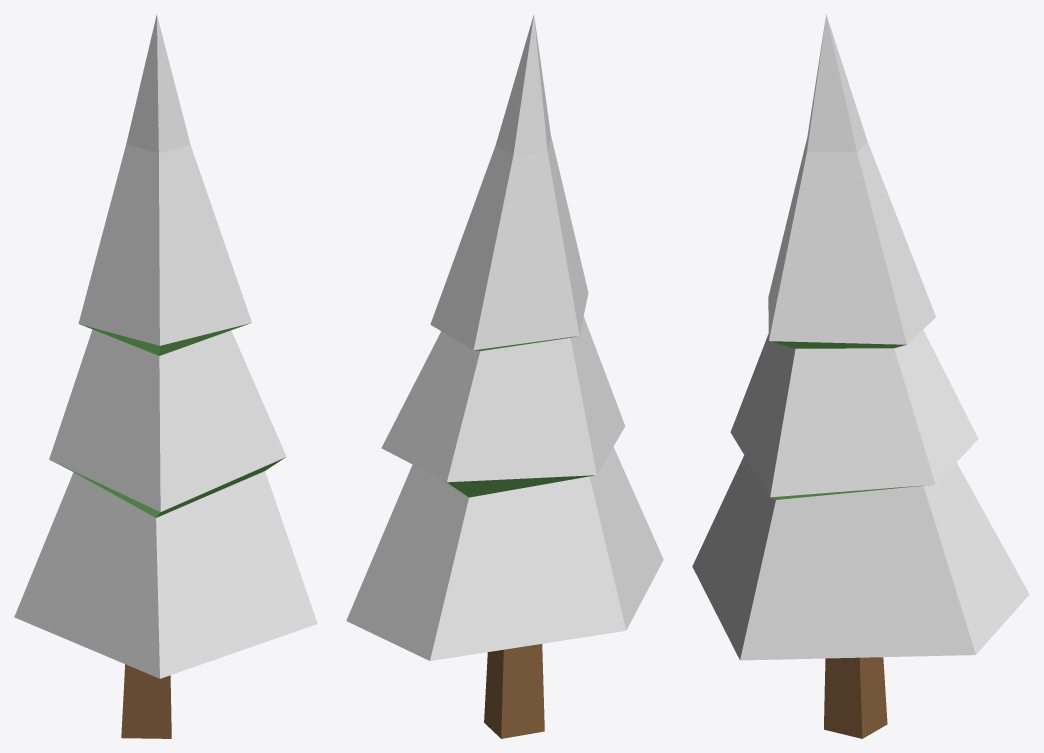
Rendered from Fir_Tree_s_Snow_BT_01.fbx.
The picture shows the model from 3 angles, left to right: view 1: azimuth 30°, elevation 25°; view 2: azimuth 150°, elevation 25°; view 3: azimuth 270°, elevation 25°; orthographic projection. The views are drawn at different scales.
Parts seen in each view (by area): view 1: Fir_Tree_s_Snow_BT_01; view 2: Fir_Tree_s_Snow_BT_01; view 3: Fir_Tree_s_Snow_BT_01.
Part boxes in pixels (x1,y1,x2,y2): Fir_Tree_s_Snow_BT_01: (14, 14, 317, 738); Fir_Tree_s_Snow_BT_01: (346, 15, 663, 738); Fir_Tree_s_Snow_BT_01: (692, 14, 1029, 738).
Size of the model in its own units: 90.21 by 265 by 114.
